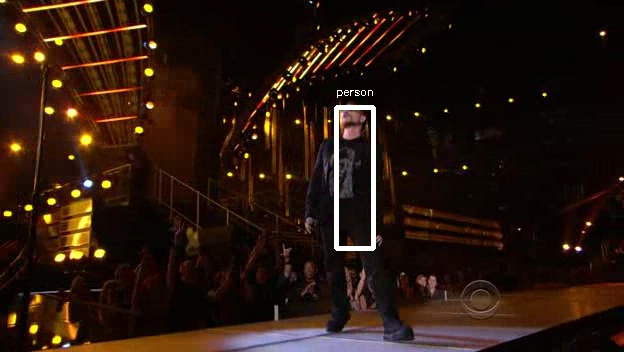person: (309, 103, 379, 235), (306, 103, 376, 235), (312, 103, 382, 235), (309, 100, 379, 232), (309, 106, 379, 238)
target_negative: (143, 319, 511, 349), (488, 55, 596, 121), (516, 237, 533, 334), (555, 63, 557, 339), (507, 66, 511, 134), (619, 321, 621, 340)
